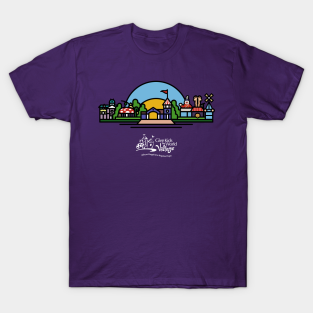design: (96, 78, 217, 159)
